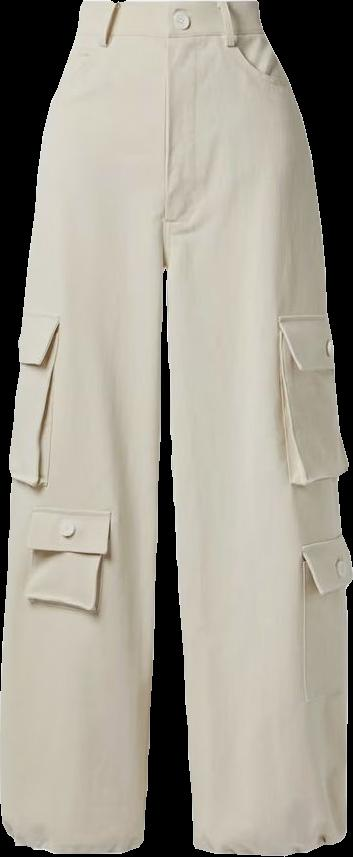Hemline: (0, 825, 146, 856), (189, 831, 348, 856)
Pantleg: (163, 0, 352, 855), (0, 0, 172, 853)
Waistline: (70, 26, 263, 43), (74, 0, 260, 11)
